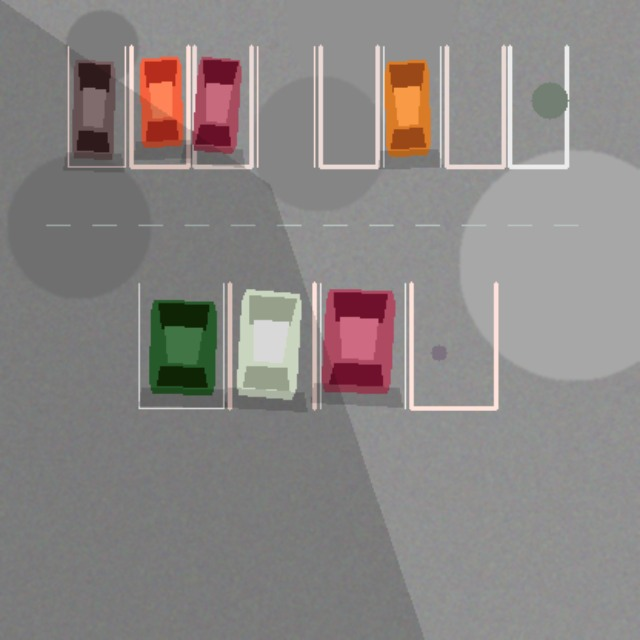space-empty: (411, 283, 495, 408), (257, 46, 314, 166), (320, 46, 377, 166), (446, 46, 503, 166), (509, 46, 566, 166)
space-occupied: (138, 283, 223, 408), (229, 283, 314, 408), (320, 283, 405, 408), (68, 46, 125, 166), (131, 46, 188, 166), (194, 46, 251, 166), (383, 46, 440, 166)
